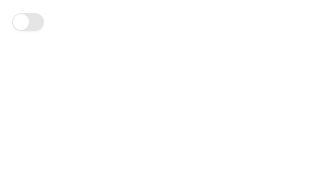
Test: Switch component › can be checked and unchecked
Step 1. Click the switch → (28, 22), box [12,13,44,31]
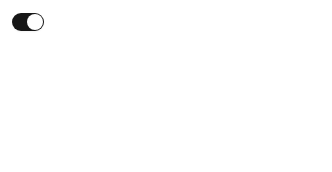
Check: the switch is checked
Step 2. Click the switch → (28, 22), box [12,13,44,31]
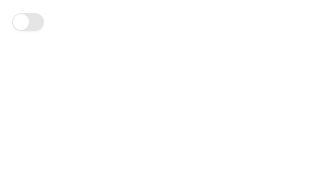
Check: the switch is not checked, box [12,13,44,31]
